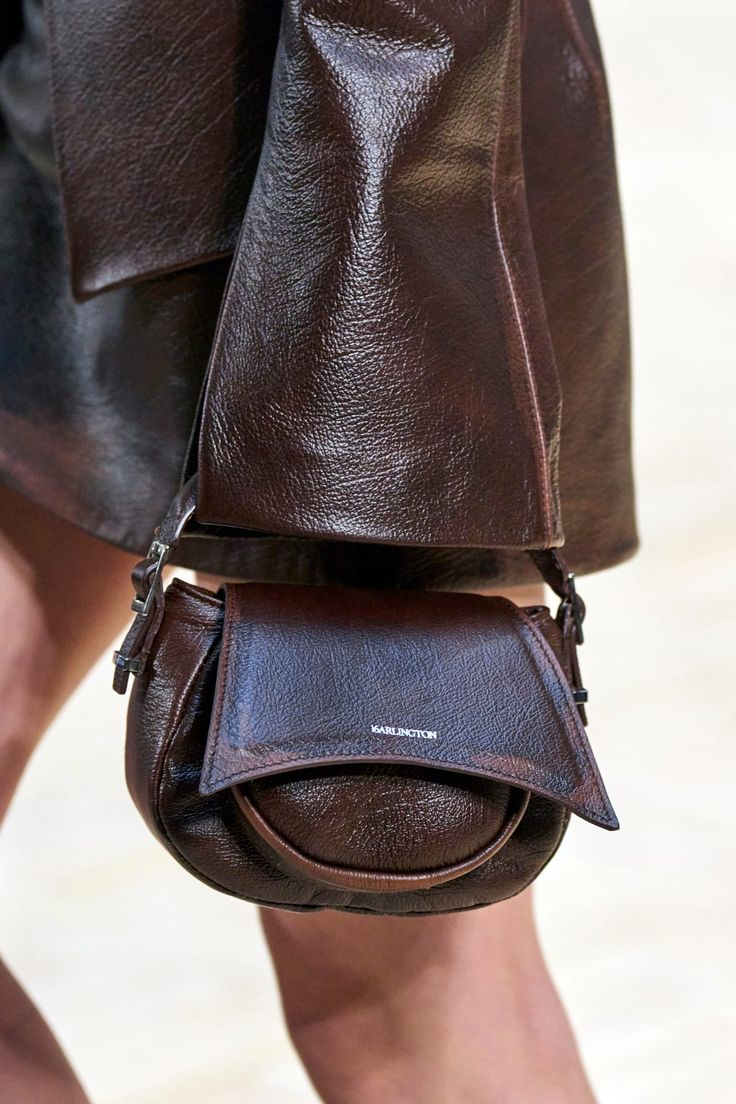cuero: (3, 1, 642, 917)
